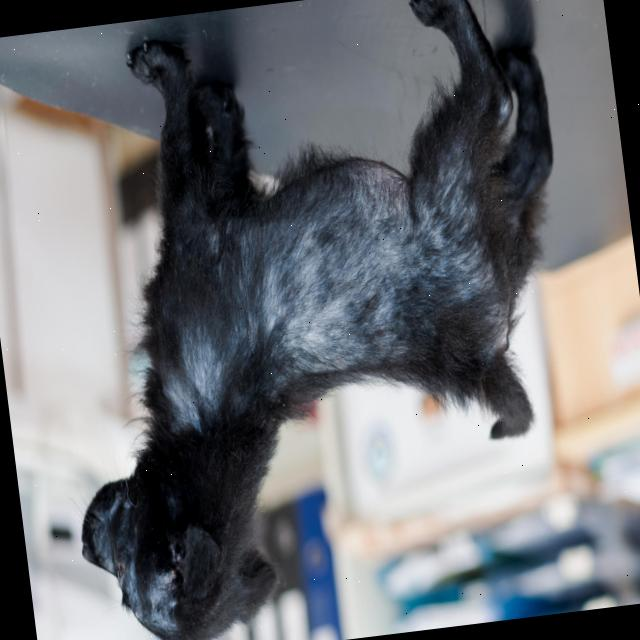cat-hairloss: (246, 171, 486, 384), (165, 328, 228, 420)
